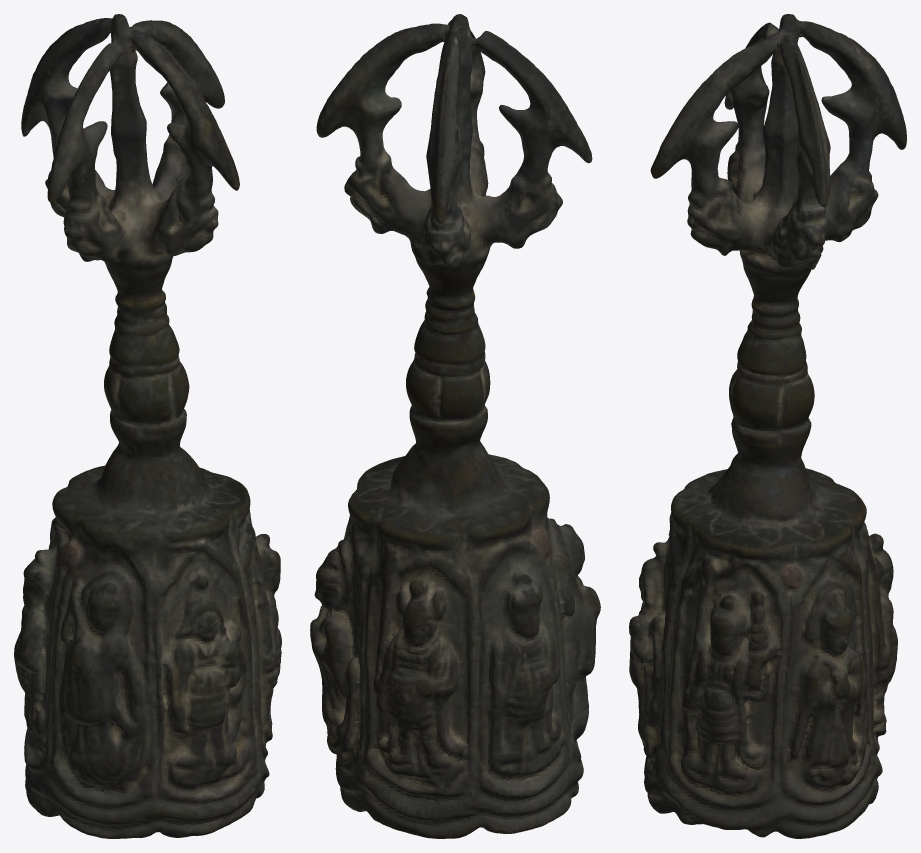
File: bronze-vajra-bell.glb
3 views of the same model, side by side, from view 1: azimuth 30°, elevation 25°; view 2: azimuth 150°, elevation 25°; view 3: azimuth 270°, elevation 25° (orthographic). The views are drawn at different scales.
Parts seen in each view (by area): view 1: CL_duk002457-000-30000; view 2: CL_duk002457-000-30000; view 3: CL_duk002457-000-30000.
Part boxes in pixels (box(x1,y1,x2,y2)): CL_duk002457-000-30000: box(14, 14, 281, 838); CL_duk002457-000-30000: box(310, 14, 600, 838); CL_duk002457-000-30000: box(629, 14, 906, 838).
Bounding box in the file's own units: 0.5652 × 1.82 × 0.5921.
1 material, 1 textured.
